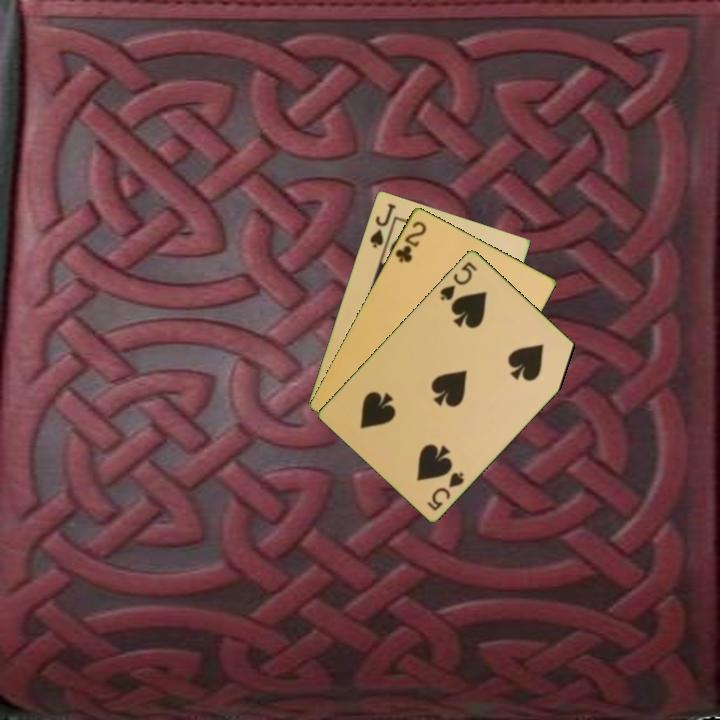2c: (391, 217, 429, 265)
5s: (436, 257, 480, 303), (423, 467, 467, 513)
Js: (366, 199, 399, 251)
